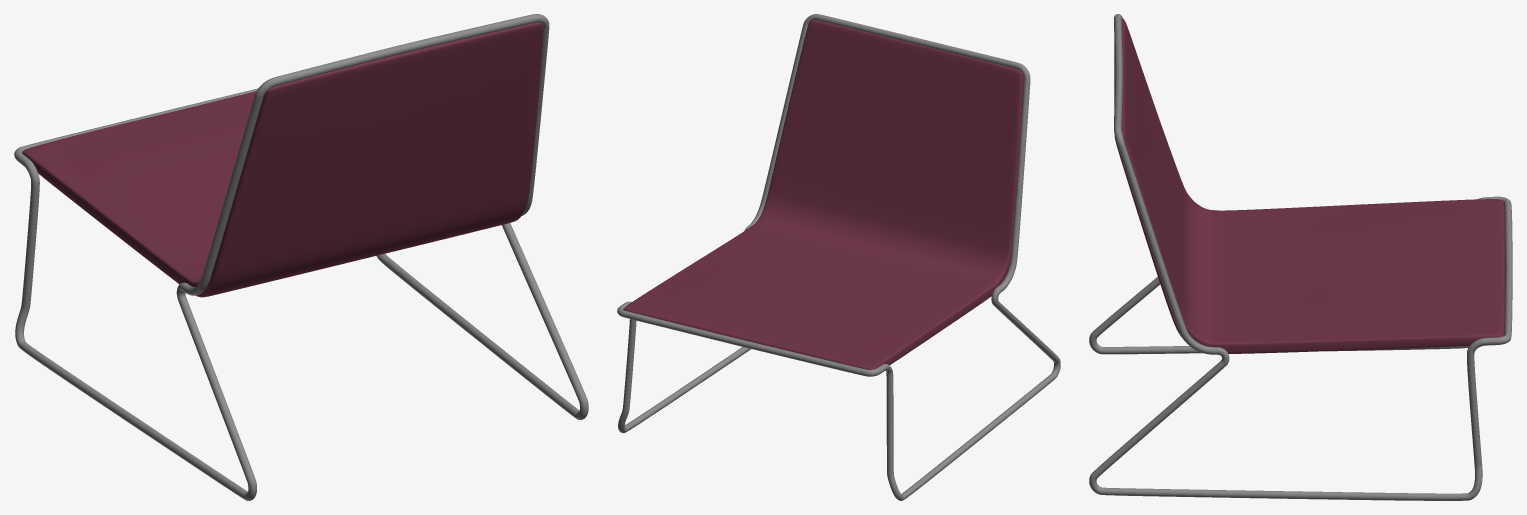
File: flux_lounge_chair_blue.fbx
The picture shows the model from 3 angles, left to right: view 1: azimuth 30°, elevation 25°; view 2: azimuth 150°, elevation 25°; view 3: azimuth 270°, elevation 25°; orthographic projection. The views are drawn at different scales.
Parts seen in each view (by area): view 1: Cylinder.003; view 2: Cylinder.003; view 3: Cylinder.003.
Part boxes in pixels (x1,y1,x2,y2): Cylinder.003: [14, 14, 588, 500]; Cylinder.003: [617, 14, 1060, 500]; Cylinder.003: [1089, 14, 1512, 500].
Size of the model in its own units: 282 by 299 by 323.
